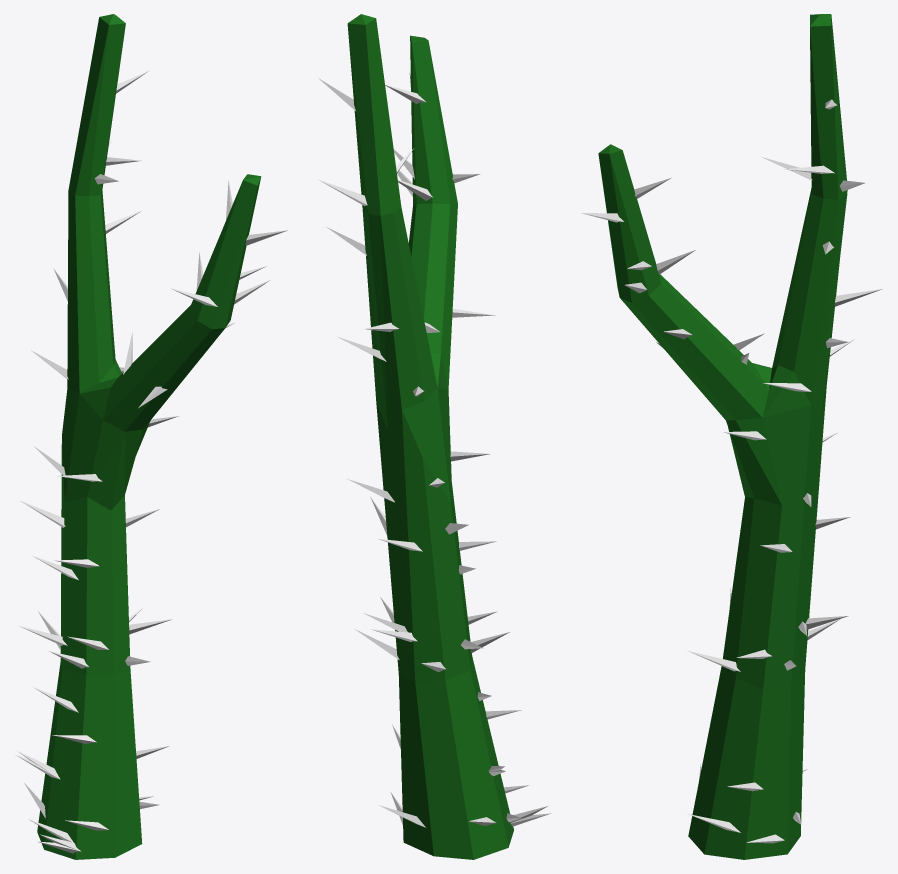
The model's file is Cactus2.fbx.
The picture shows the model from 3 angles, left to right: view 1: azimuth 30°, elevation 25°; view 2: azimuth 150°, elevation 25°; view 3: azimuth 270°, elevation 25°; orthographic projection. The views are drawn at different scales.
Visible parts, largest first — view 1: Cube; view 2: Cube; view 3: Cube.
Part boxes in pixels (x1,y1,x2,y2): Cube: [15, 14, 287, 859]; Cube: [318, 14, 551, 859]; Cube: [581, 14, 882, 859].
Size of the model in its own units: 114 by 435 by 140.
